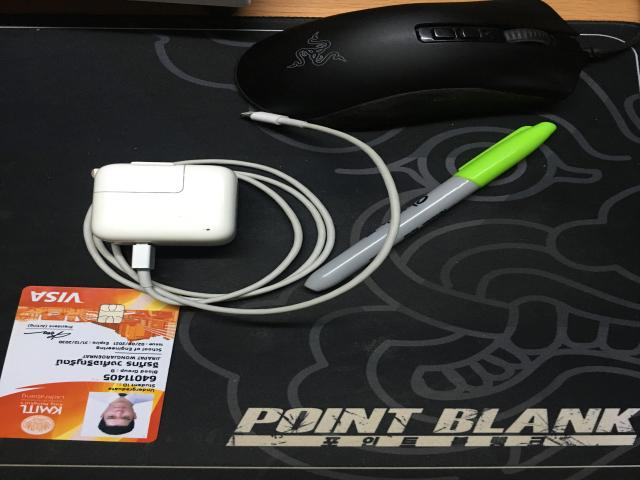Mouse: (237, 0, 638, 130)
Pen: (302, 122, 557, 291)
wire: (83, 109, 400, 314)
